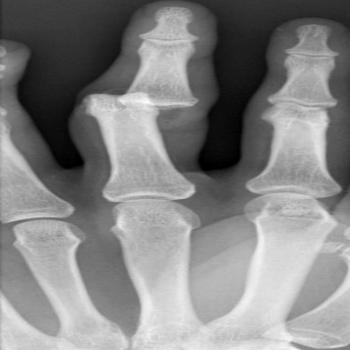Fracture: (74, 83, 203, 118)
